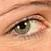eye: (15, 21, 30, 33)
